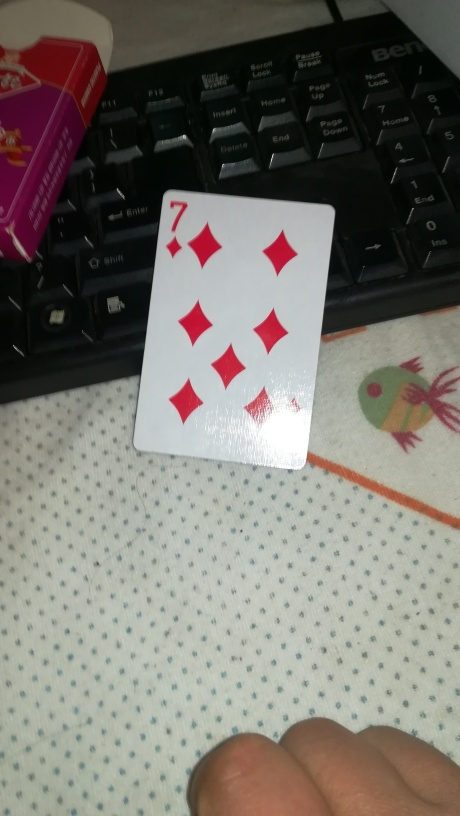fk 7: (131, 185, 337, 480)
